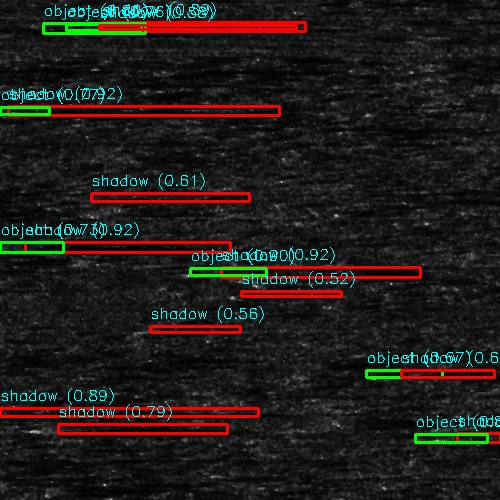rock: (0, 239, 63, 256), (3, 422, 96, 433), (57, 23, 150, 30), (0, 405, 36, 416), (197, 270, 270, 275), (6, 109, 27, 114), (451, 436, 472, 441)
shadow: (0, 405, 319, 416), (17, 239, 210, 256), (50, 422, 194, 433), (104, 23, 317, 30), (17, 109, 274, 114), (234, 270, 440, 275), (0, 62, 106, 71), (462, 436, 500, 441)
